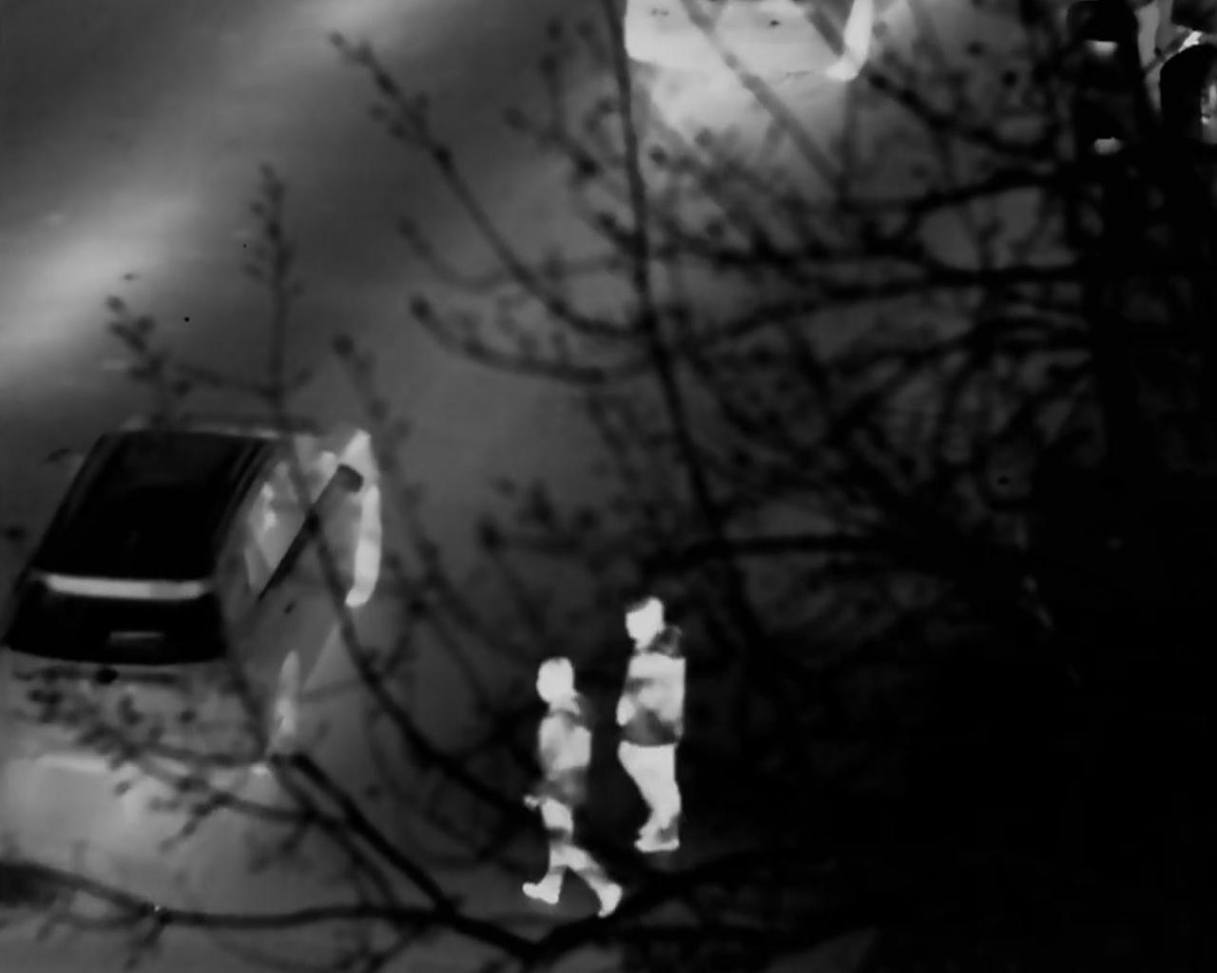person: (516, 657, 622, 921), (604, 594, 693, 851)
